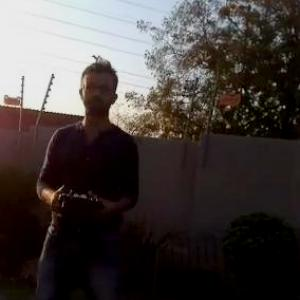follow: (27, 54, 143, 299)
